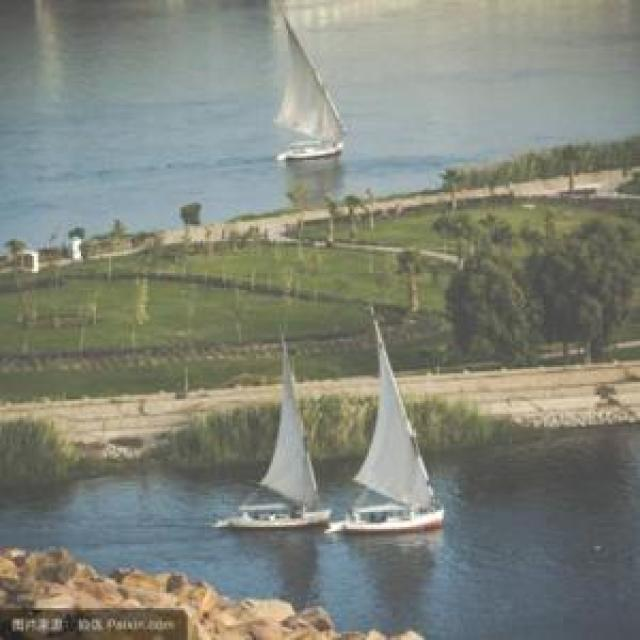sailboat: (335, 307, 448, 534), (217, 326, 329, 528), (268, 3, 349, 159)
